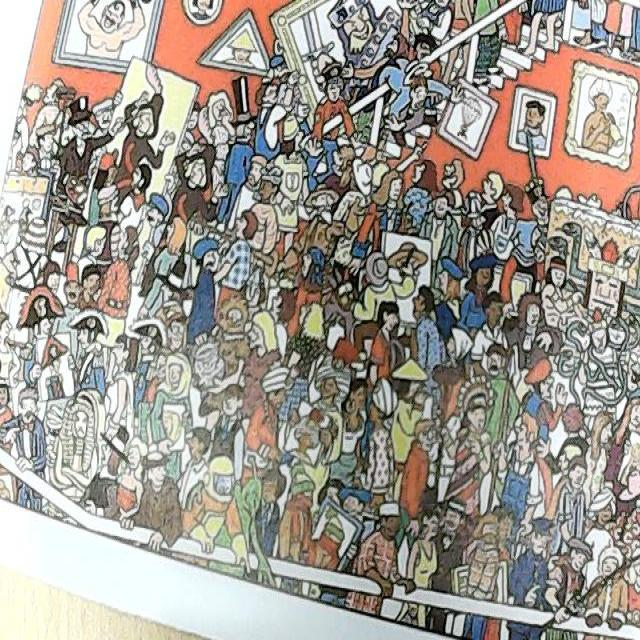waldo: (161, 302, 188, 354)
